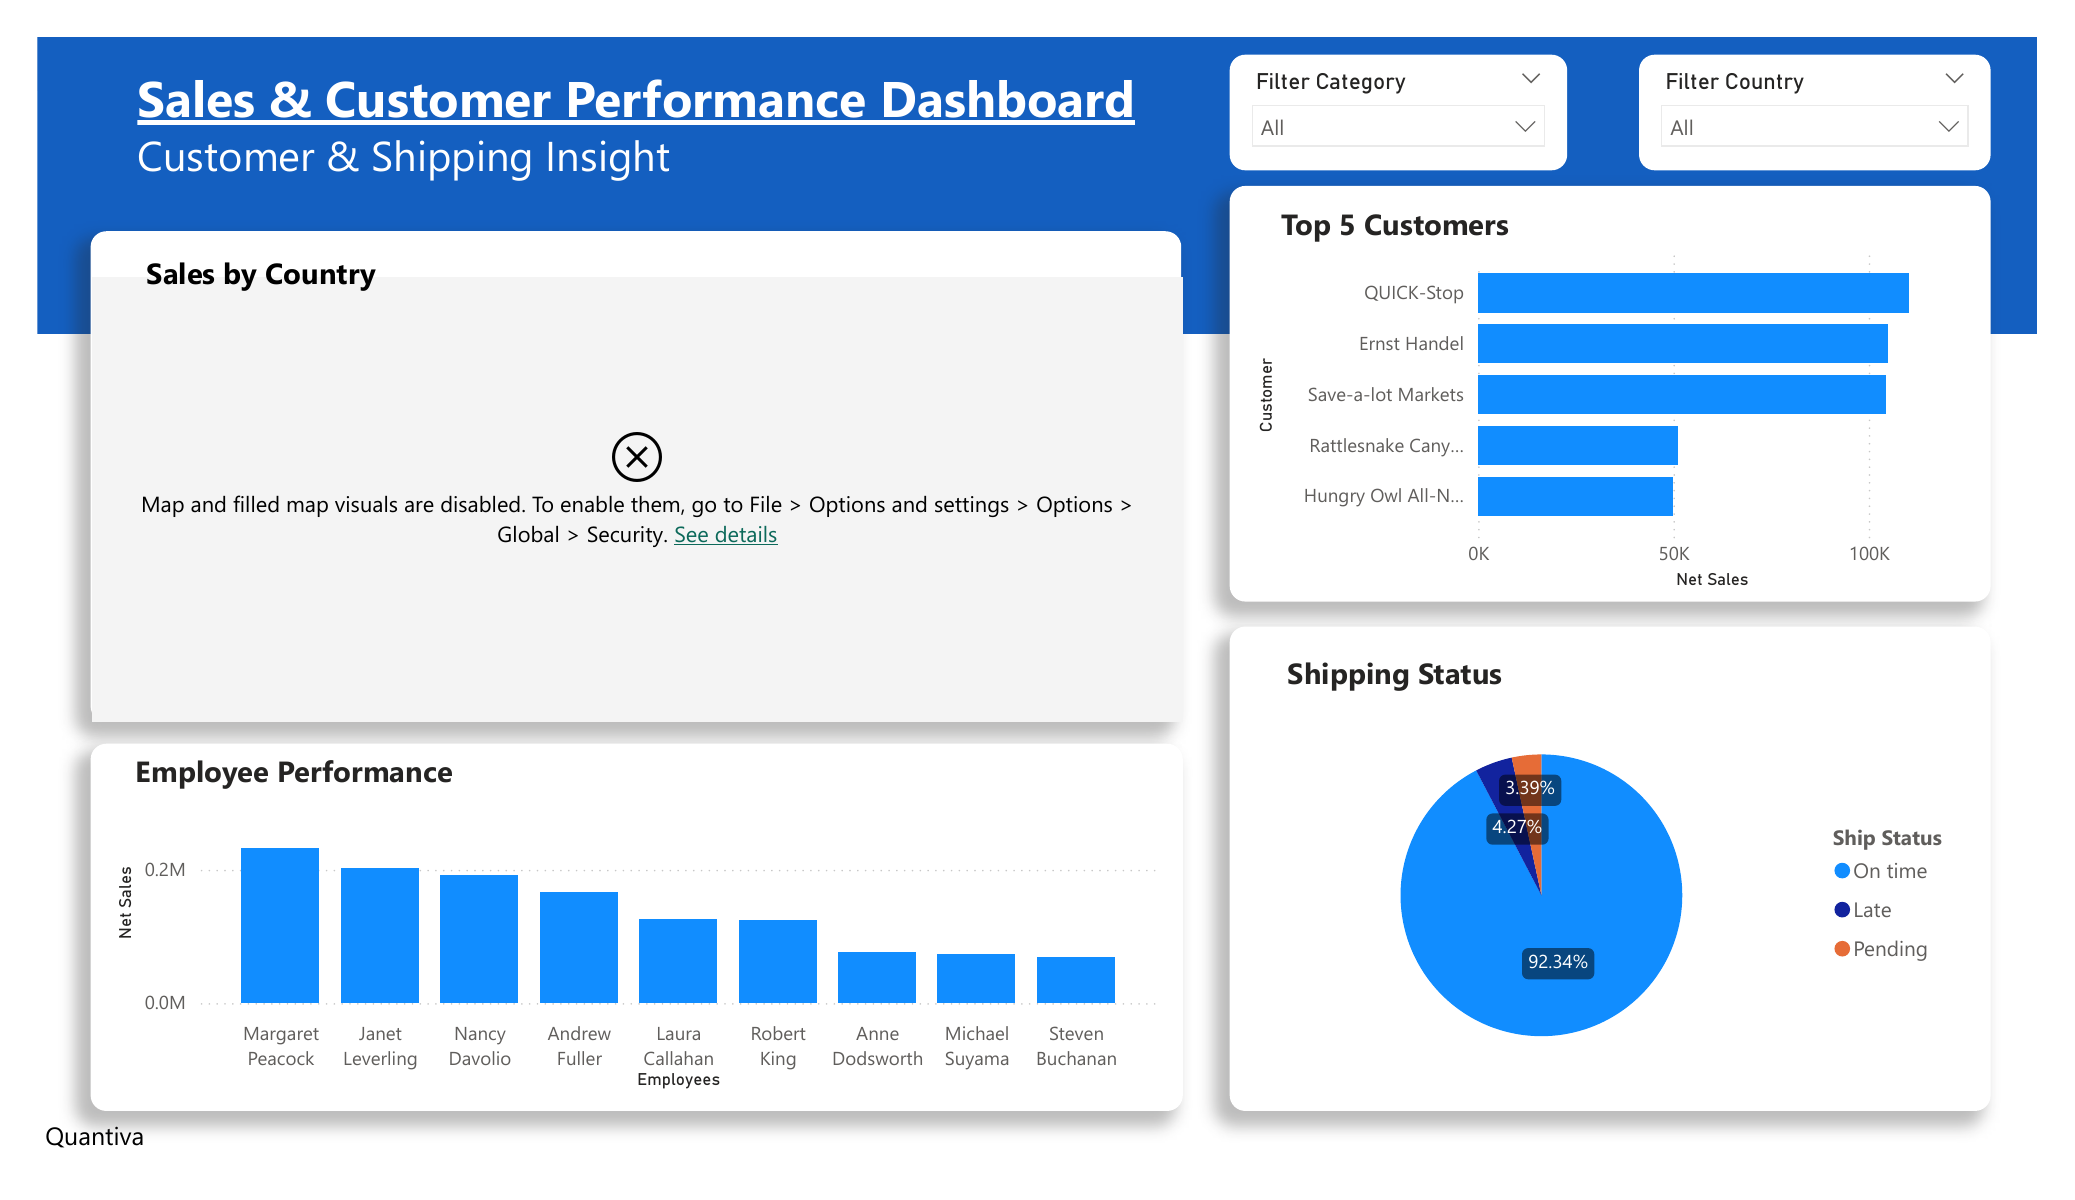

The page's visual inventory and layout, read from the dashboard file:
{"tool":"powerbi","page":{"name":"Page 2","canvas":[1280,720],"ordinal":1},"visuals":[{"type":"shape","box":[0,0,1280,190],"z":0},{"type":"shape","box":[763,95,487,266],"z":0,"group":"g3"},{"type":"shape","box":[762.9,376.6,487.3,310.4],"z":0,"group":"g5"},{"type":"shape","box":[33.7,452.4,699.1,234.6],"z":0,"group":"g6"},{"type":"shape","box":[33.7,123.9,698.5,314],"z":500,"group":"g1"},{"type":"textbox","box":[59,11,674,57],"z":1000},{"type":"clusteredBarChart","fields":{"Y":["Sum(dataset.net_sales)"],"Category":["dataset.customer_name"]},"box":[771.6,121.2,471,238.8],"z":1000,"group":"g3"},{"type":"group","id":"g1","title":"Group 1","box":[33.7,123.9,698.5,314],"z":1000,"group":"g2"},{"type":"textbox","box":[59,52,368,48],"z":2000},{"type":"textbox","box":[787.1,102.2,163.6,43.3],"z":2000,"group":"g3"},{"type":"textbox","box":[0,687,104,33],"z":3000},{"type":"slicer","fields":{"Values":["dataset.ship_country"]},"box":[1025.2,10.8,225,74.6],"z":4000},{"type":"group","id":"g2","title":"Group 2","box":[33.7,123.9,698.5,314.1],"z":5000},{"type":"group","id":"g3","title":"Group 3","box":[763,95,487,266],"z":6000},{"type":"slicer","fields":{"Values":["dataset.category_name"]},"box":[762.9,10.8,216.6,74.6],"z":7000},{"type":"filledMap","fields":{"Category":["dataset.customer_country"]},"box":[34,152,695,286],"z":7000,"group":"g2"},{"type":"textbox","box":[58.3,132.8,169.5,39.2],"z":7500,"group":"g2"},{"type":"group","id":"g4","title":"Group 4","box":[33.7,452,699.1,235],"z":8000},{"type":"group","id":"g5","title":"Group 3","box":[762.9,376.6,487.3,310.4],"z":9000,"group":"g7"},{"type":"group","id":"g6","title":"Group 3","box":[33.7,452.4,699.1,234.6],"z":9000,"group":"g4"},{"type":"pieChart","fields":{"Category":["dataset.ship_status"],"Y":["CountNonNull(dataset.order_id)"]},"box":[771.2,423,470.8,251.5],"z":10000,"group":"g7"},{"type":"clusteredColumnChart","fields":{"Category":["dataset.employee_name"],"Y":["Sum(dataset.net_sales)"]},"box":[45.6,476.3,675.3,201.3],"z":10000,"group":"g4"},{"type":"textbox","box":[58,452,281,46],"z":10500,"group":"g4"},{"type":"textbox","box":[786.8,388.5,163.7,44.4],"z":11000,"group":"g7"},{"type":"group","id":"g7","title":"Group 5","box":[762.9,376.6,487.3,310.4],"z":11001}]}

Visuals, with their boxes on the page's 1280x720 design canvas (x1, y1, x2, y2). These are canvas units, not pixel positions in the 2075x1200 screenshot, which may show the page scaled, cropped or inside an application window:
shape: rect(0, 0, 1280, 190)
shape: rect(763, 95, 1250, 361)
shape: rect(763, 377, 1250, 687)
shape: rect(34, 452, 733, 687)
shape: rect(34, 124, 732, 438)
textbox: rect(59, 11, 733, 68)
clusteredBarChart - Sum(dataset.net_sales) x dataset.customer_name: rect(772, 121, 1243, 360)
"Group 1" group: rect(34, 124, 732, 438)
textbox: rect(59, 52, 427, 100)
textbox: rect(787, 102, 951, 146)
textbox: rect(0, 687, 104, 720)
slicer - dataset.ship_country: rect(1025, 11, 1250, 85)
"Group 2" group: rect(34, 124, 732, 438)
"Group 3" group: rect(763, 95, 1250, 361)
slicer - dataset.category_name: rect(763, 11, 980, 85)
filledMap - dataset.customer_country: rect(34, 152, 729, 438)
textbox: rect(58, 133, 228, 172)
"Group 4" group: rect(34, 452, 733, 687)
"Group 3" group: rect(763, 377, 1250, 687)
"Group 3" group: rect(34, 452, 733, 687)
pieChart - dataset.ship_status x CountNonNull(dataset.order_id): rect(771, 423, 1242, 674)
clusteredColumnChart - dataset.employee_name x Sum(dataset.net_sales): rect(46, 476, 721, 678)
textbox: rect(58, 452, 339, 498)
textbox: rect(787, 388, 950, 433)
"Group 5" group: rect(763, 377, 1250, 687)
